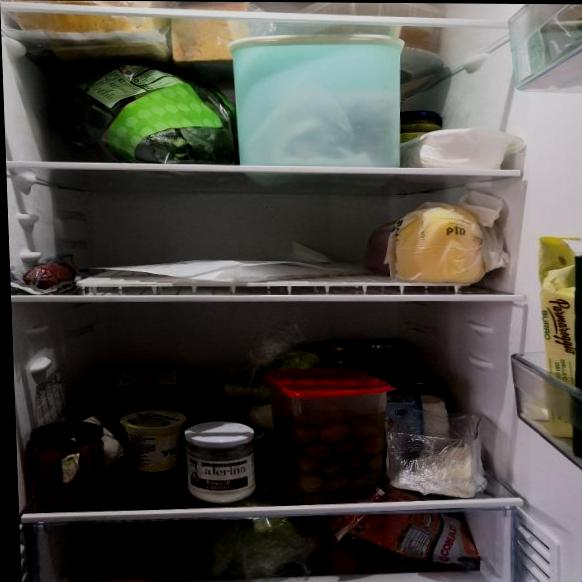butter: (528, 231, 582, 439)
carrots: (346, 504, 481, 572)
cheese: (387, 207, 510, 296), (0, 0, 180, 48), (386, 428, 493, 501)
spinach: (47, 55, 254, 160)
